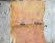Corrosion: (9, 1, 46, 43)
